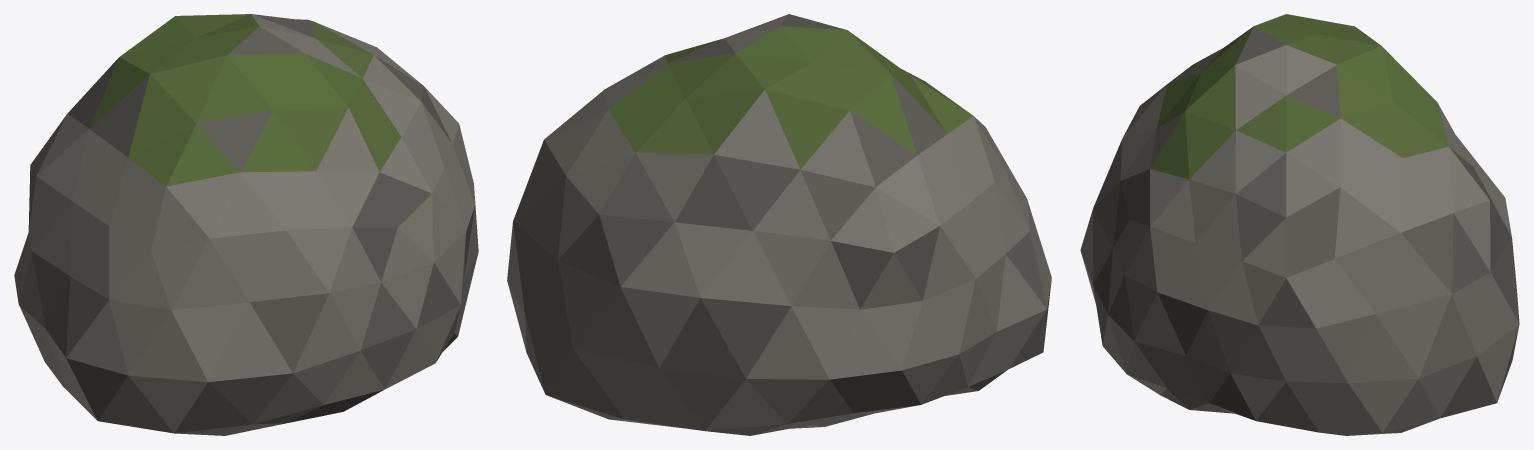
Rendered from rock_large.glb.
The picture shows the model from 3 angles, left to right: view 1: azimuth 30°, elevation 25°; view 2: azimuth 150°, elevation 25°; view 3: azimuth 270°, elevation 25°; orthographic projection. The views are drawn at different scales.
Parts seen in each view (by area): view 1: rock_large; view 2: rock_large; view 3: rock_large.
Boxes of the visible parts, left/top/right/bottom form: rock_large: left=14, top=14, right=478, bottom=435; rock_large: left=507, top=14, right=1051, bottom=435; rock_large: left=1080, top=14, right=1519, bottom=435.
Bounding box in the file's own units: 4.94 × 3.68 × 4.42.
